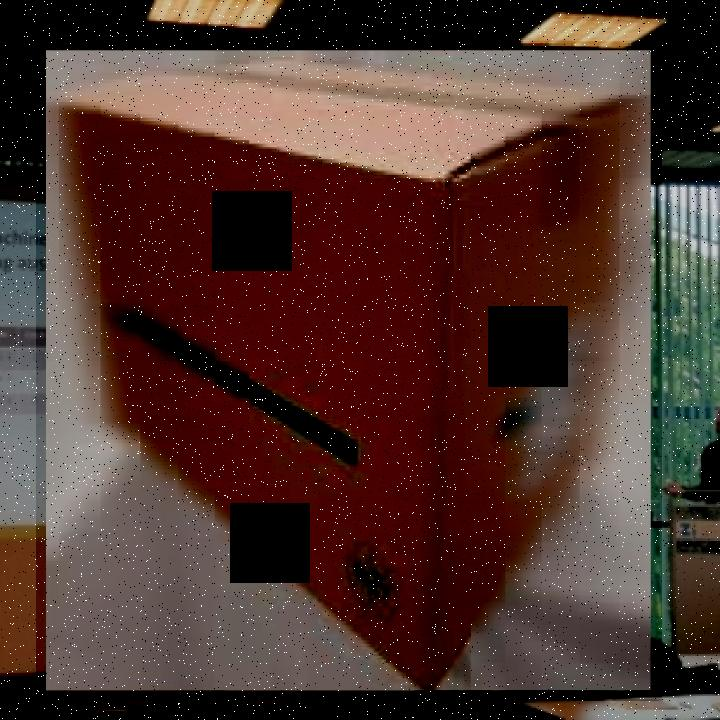box: (36, 41, 662, 701)
